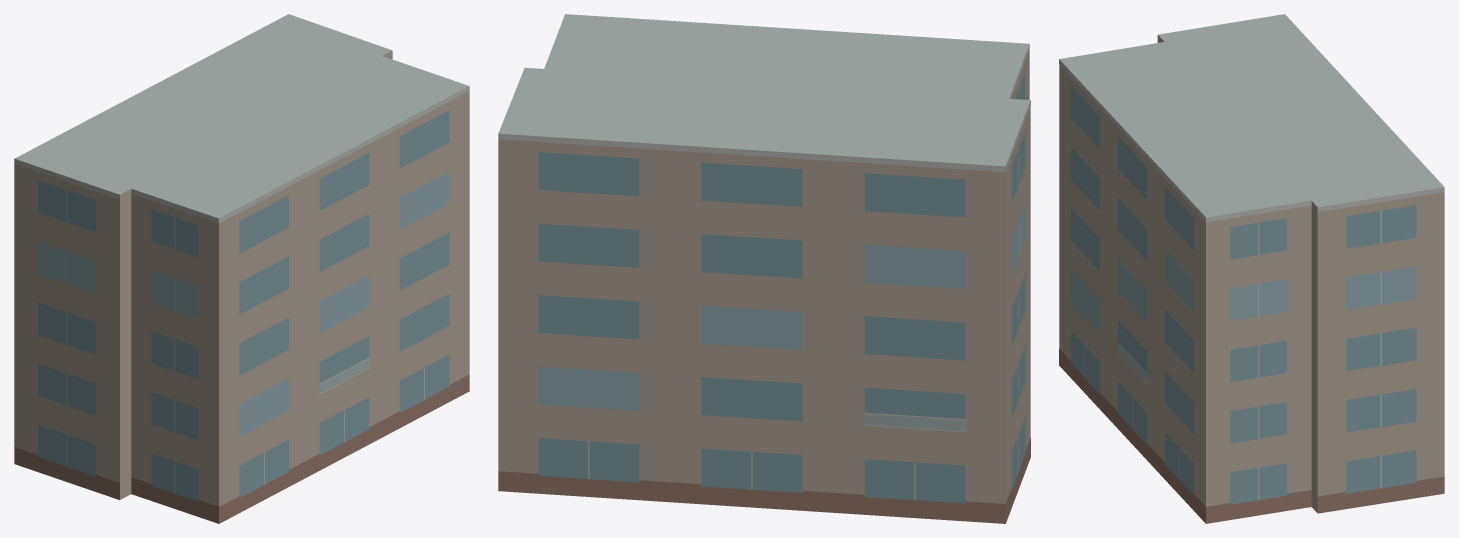
The model's file is survey-upis-32620455.glb.
3 renders of one model, left to right at view 1: azimuth 30°, elevation 25°; view 2: azimuth 150°, elevation 25°; view 3: azimuth 270°, elevation 25°, orthographic. The views are drawn at different scales.
Visible parts, largest first — view 1: survey-upis-32620455.tmp; view 2: survey-upis-32620455.tmp; view 3: survey-upis-32620455.tmp.
Boxes of the visible parts, x1,y1,x2,y2 form: survey-upis-32620455.tmp: (14, 14, 469, 523); survey-upis-32620455.tmp: (498, 14, 1030, 523); survey-upis-32620455.tmp: (1059, 14, 1444, 523).
Bounding box in the file's own units: 21.74 × 15.25 × 17.41.
